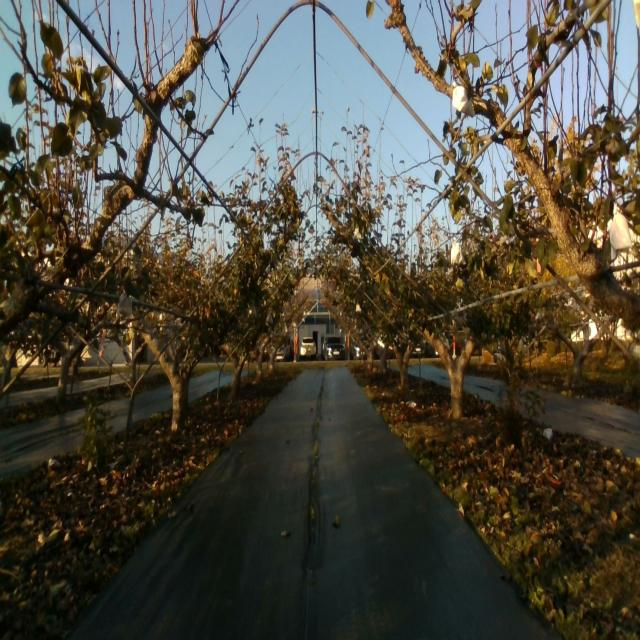pearbags: (609, 203, 633, 259), (452, 81, 476, 117), (116, 290, 134, 318), (451, 238, 464, 265)
